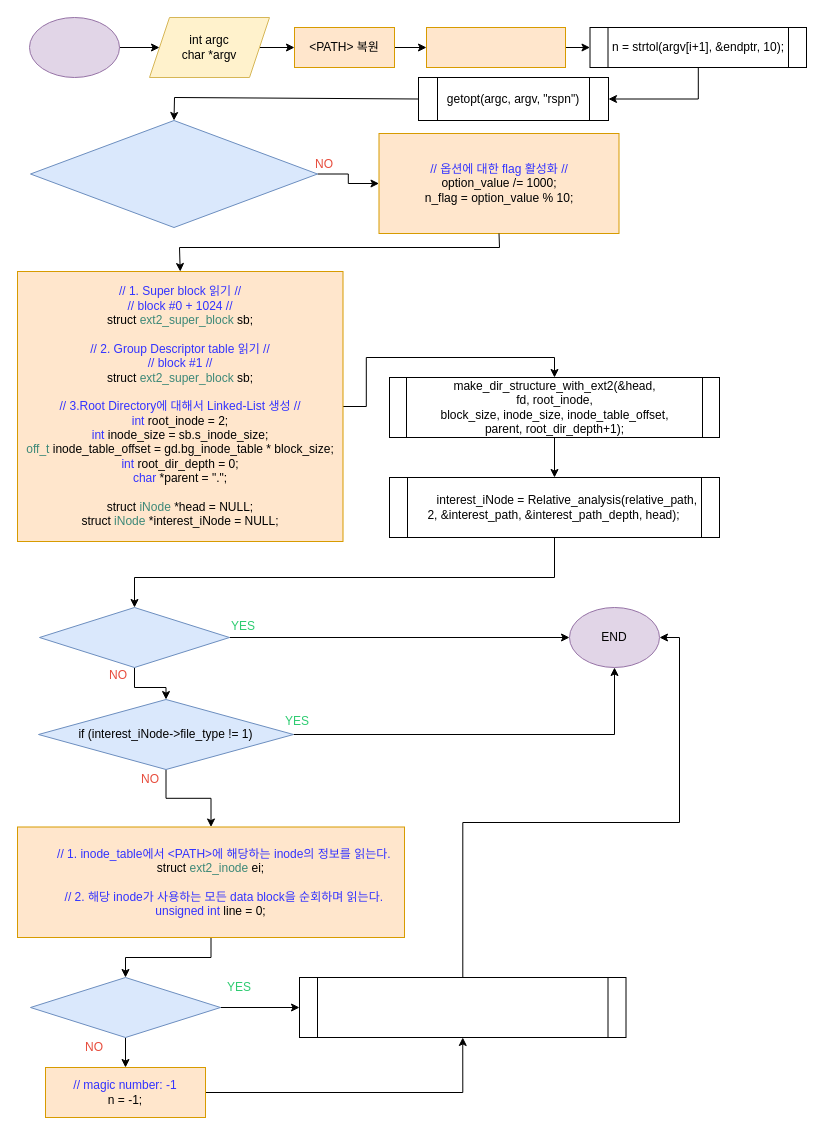
Some shapes in this 824 by 1135 pixel diagram are drawn without their labels. The box of each missing label's shape, as (x1, y1, x2, y2) in pixels:
// "-n"옵션의 인자값 // int n;: (426, 26, 566, 68)
if (interest_path == "."): (38, 606, 230, 668)
if (n_flag): (30, 976, 220, 1038)
option_value != { NON , O_N }: (30, 120, 318, 228)
read_inode_blocks(fd, &ei, block_size, &line, n);: (298, 976, 626, 1038)
START: (28, 16, 120, 78)
